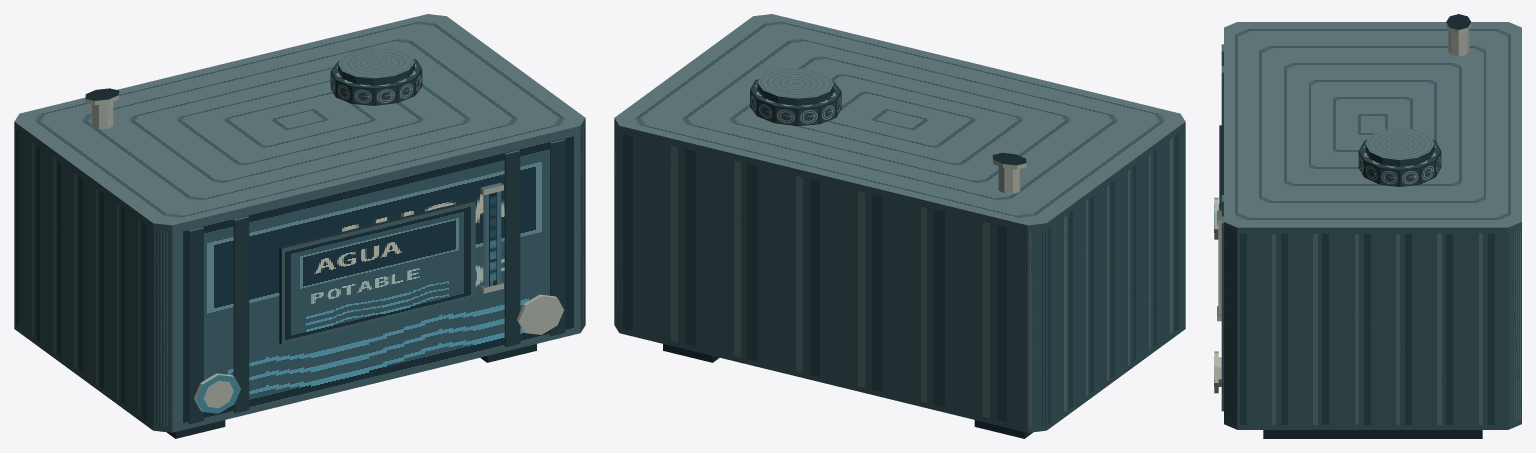
Rendered from cisterna_principal.glb.
3 renders of one model, left to right at view 1: azimuth 30°, elevation 25°; view 2: azimuth 150°, elevation 25°; view 3: azimuth 270°, elevation 25°, orthographic. The views are drawn at different scales.
Parts seen in each view (by area): view 1: cisterna_principal; view 2: cisterna_principal; view 3: cisterna_principal.
Part boxes in pixels (left/top/right/bottom): cisterna_principal: left=14, top=14, right=585, bottom=438; cisterna_principal: left=614, top=14, right=1185, bottom=438; cisterna_principal: left=1214, top=14, right=1521, bottom=438.
Size of the model in its own units: 2.33 by 1.36 by 1.48.
1 material, 1 textured.
